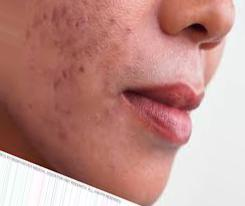Acne: (105, 13, 137, 38), (58, 32, 85, 60), (73, 62, 93, 91), (47, 68, 73, 88), (69, 17, 86, 35)
